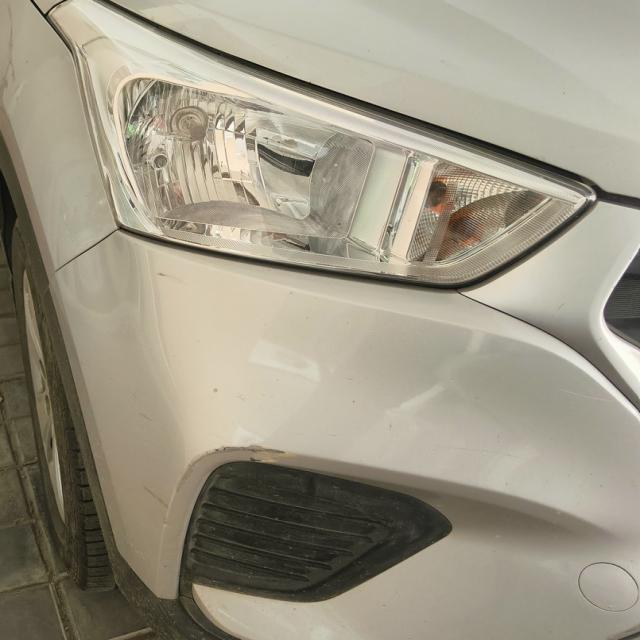scratch: (139, 437, 284, 507)
